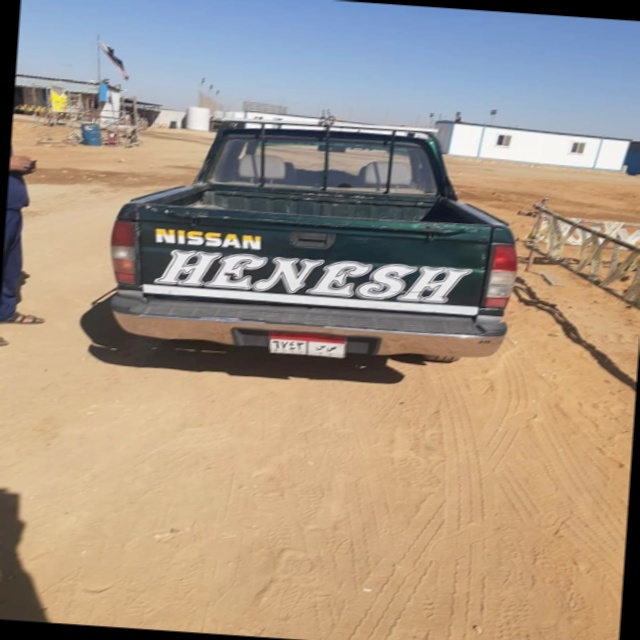License Plate: (268, 329, 348, 359)
